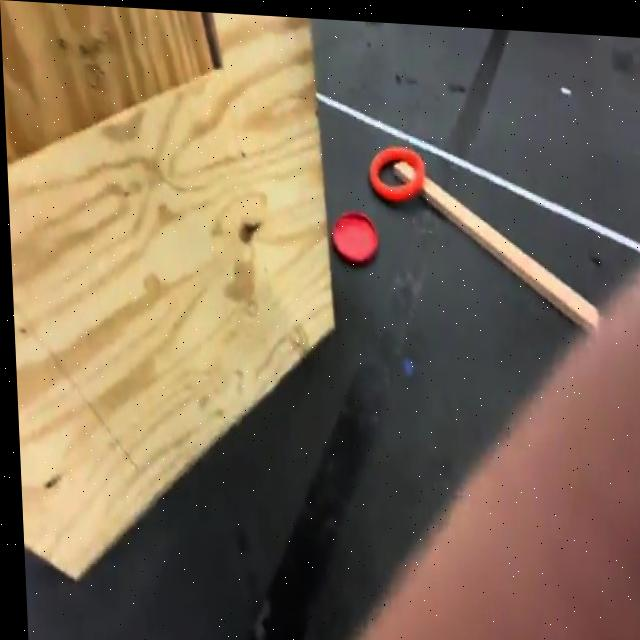note: (366, 142, 426, 197)
